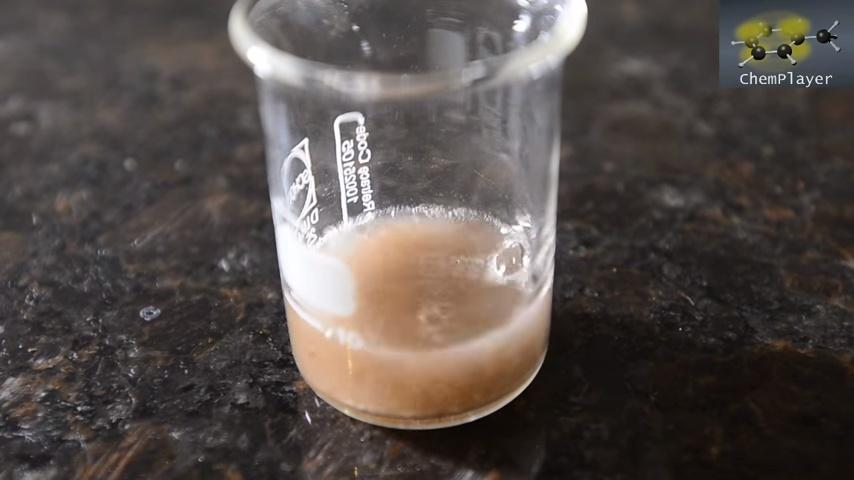Beaker: (226, 2, 657, 465)
